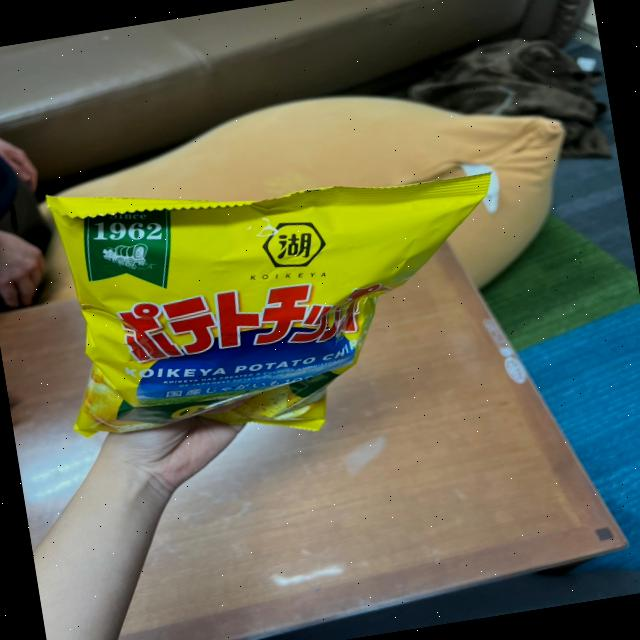chips-nori: (42, 133, 478, 456)
